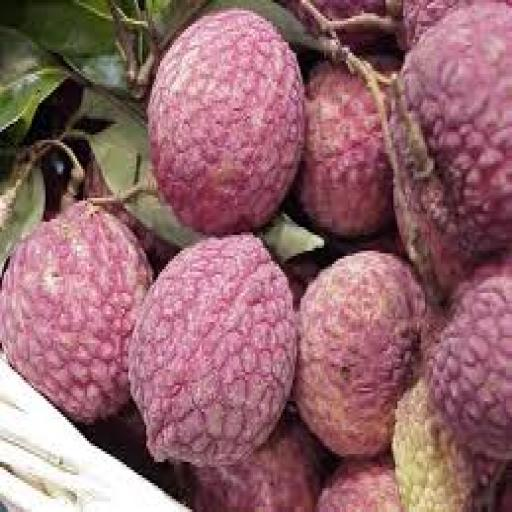lychee: (129, 235, 296, 467), (149, 8, 304, 234), (392, 3, 511, 295), (0, 204, 152, 422), (295, 251, 425, 456), (299, 64, 393, 237), (429, 262, 511, 459), (194, 423, 320, 511), (392, 381, 476, 511), (103, 204, 177, 271), (311, 0, 401, 50), (317, 462, 405, 511), (404, 0, 482, 47)
